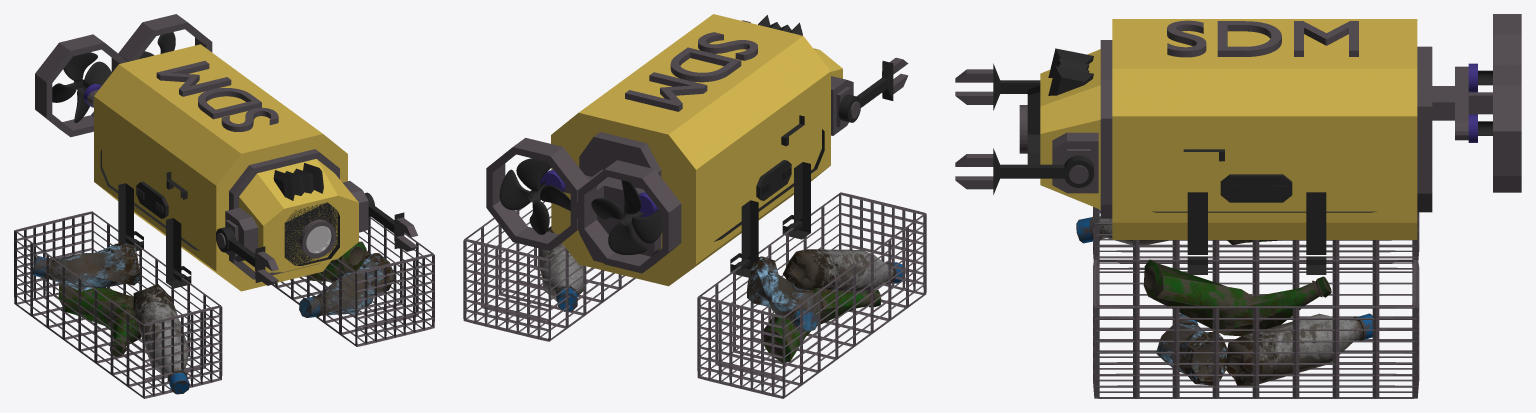
Rendered from collector_with_2bottles.glb.
3 views of the same model, side by side, from view 1: azimuth 30°, elevation 25°; view 2: azimuth 150°, elevation 25°; view 3: azimuth 270°, elevation 25° (orthographic). The views are drawn at different scales.
Parts seen in each view (by area): view 1: main_body, neck, Plastic_Bottle_01_GEO.007, camera_lens; view 2: main_body, neck, Plastic_Bottle_01_GEO.007, Circle.002; view 3: main_body, neck, Plastic_Bottle_01_GEO.007, Circle.002.
Boxes of the visible parts, x1=… form: main_body: x1=52, y1=32, x2=404, y2=291; neck: x1=14, y1=14, x2=434, y2=398; Plastic_Bottle_01_GEO.007: x1=32, y1=241, x2=393, y2=394; camera_lens: x1=306, y1=226, x2=331, y2=253; main_body: x1=499, y1=14, x2=893, y2=286; neck: x1=463, y1=20, x2=926, y2=398; Plastic_Bottle_01_GEO.007: x1=538, y1=227, x2=905, y2=362; Circle.002: x1=540, y1=170, x2=657, y2=217; main_body: x1=993, y1=19, x2=1492, y2=274; neck: x1=955, y1=14, x2=1521, y2=398; Plastic_Bottle_01_GEO.007: x1=1076, y1=216, x2=1372, y2=385; Circle.002: x1=1468, y1=63, x2=1477, y2=142.
Bounding box in the file's own units: 4.18 × 2.95 × 5.53.
Materials: 5 (5 with a texture image).
